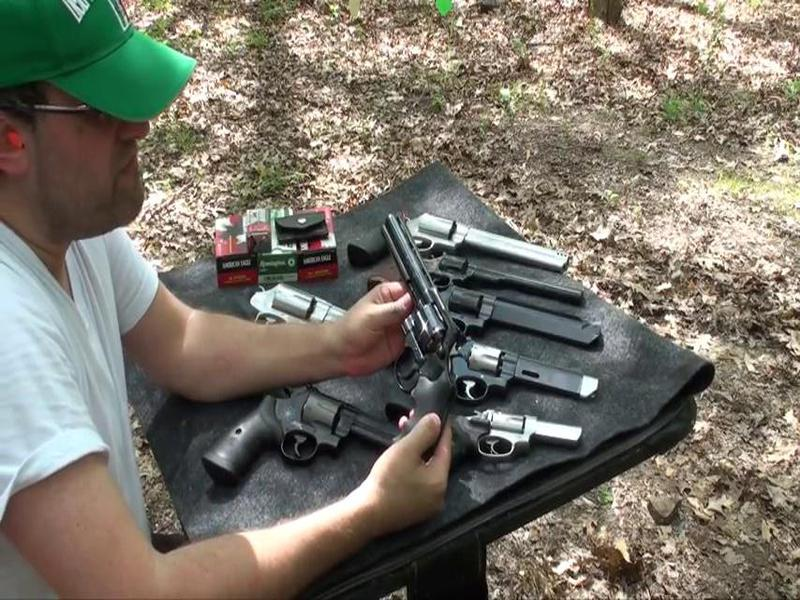Revolver: (336, 217, 496, 465)
